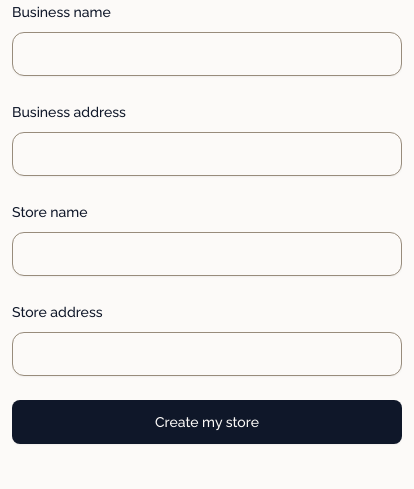
OnboardingForm › shows server field errors on the right field and focuses the first invalid one
Step 1. Type "Acme Ltd" into the field labelled "Business name" → (207, 54), box [12,32,402,76]
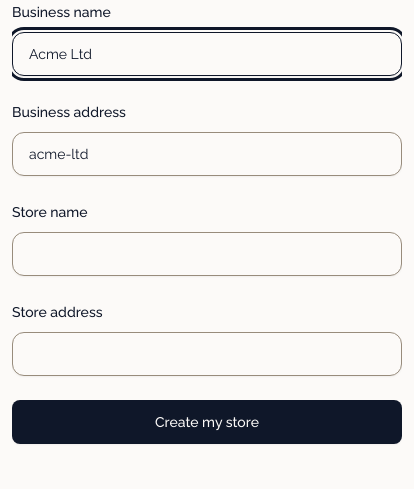
Step 2. Type "Acme Shop" into the field labelled "Store name" → (207, 254), box [12,232,402,276]
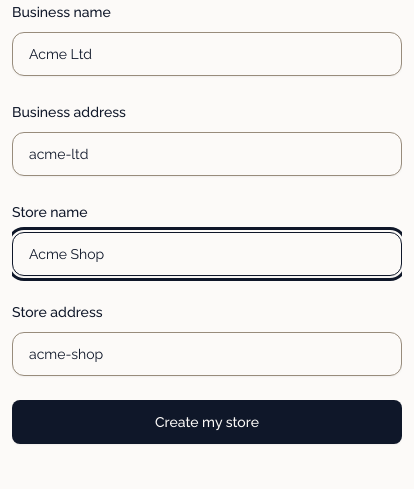
Step 3. Click the button "Create my store" → (207, 422), box [12,400,402,444]
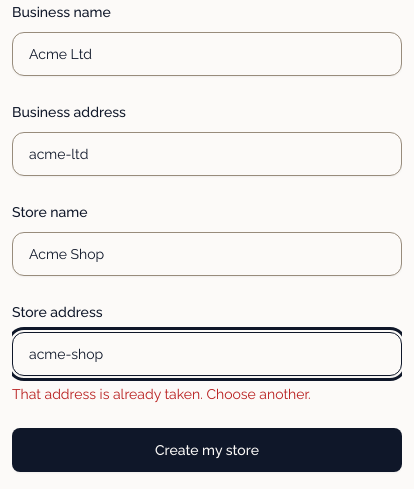
Now the text "That address is already taken. Choose another." is shown, box [12,386,311,402]
